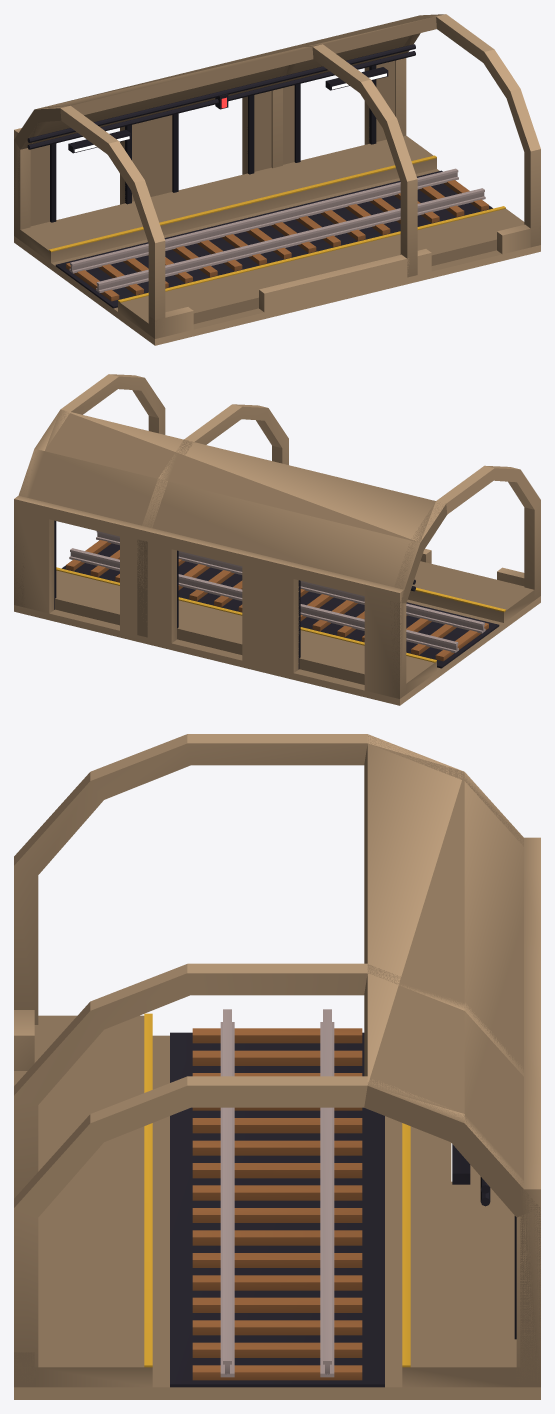
The picture shows the model from 3 angles, top to bottom: view 1: azimuth 30°, elevation 25°; view 2: azimuth 150°, elevation 25°; view 3: azimuth 270°, elevation 25°; orthographic projection. The views are drawn at different scales.
Visible parts, largest first — view 1: body_pal_khakiLight, roof_pal_khakiLight, body_pal_uiDark, body_pal_sidewalk, body_pal_woodWarm, body_pal_schoolBusYellow; view 2: roof_pal_khakiLight, body_pal_khakiLight, body_pal_sidewalk, body_pal_uiDark, body_pal_woodWarm, body_pal_schoolBusYellow; view 3: roof_pal_khakiLight, body_pal_khakiLight, body_pal_woodWarm, body_pal_uiDark, body_pal_sidewalk, body_pal_schoolBusYellow.
Part boxes in pixels (x1=…): body_pal_khakiLight: x1=14, y1=60, x2=540, y2=345; roof_pal_khakiLight: x1=14, y1=14, x2=540, y2=336; body_pal_uiDark: x1=27, y1=44, x2=492, y2=308; body_pal_sidewalk: x1=69, y1=168, x2=485, y2=292; body_pal_woodWarm: x1=66, y1=180, x2=488, y2=301; body_pal_schoolBusYellow: x1=49, y1=155, x2=505, y2=302; roof_pal_khakiLight: x1=14, y1=374, x2=540, y2=698; body_pal_khakiLight: x1=14, y1=495, x2=540, y2=705; body_pal_sidewalk: x1=69, y1=531, x2=485, y2=652; body_pal_uiDark: x1=54, y1=520, x2=499, y2=669; body_pal_woodWarm: x1=66, y1=540, x2=488, y2=661; body_pal_schoolBusYellow: x1=56, y1=567, x2=505, y2=662; roof_pal_khakiLight: x1=14, y1=734, x2=540, y2=1387; body_pal_khakiLight: x1=14, y1=837, x2=540, y2=1399; body_pal_woodWarm: x1=192, y1=1028, x2=362, y2=1380; body_pal_uiDark: x1=170, y1=1032, x2=516, y2=1387; body_pal_sidewalk: x1=220, y1=1009, x2=334, y2=1377; body_pal_schoolBusYellow: x1=144, y1=1013, x2=410, y2=1367.
Bounding box in the file's own units: 12 × 5 × 7.6.
